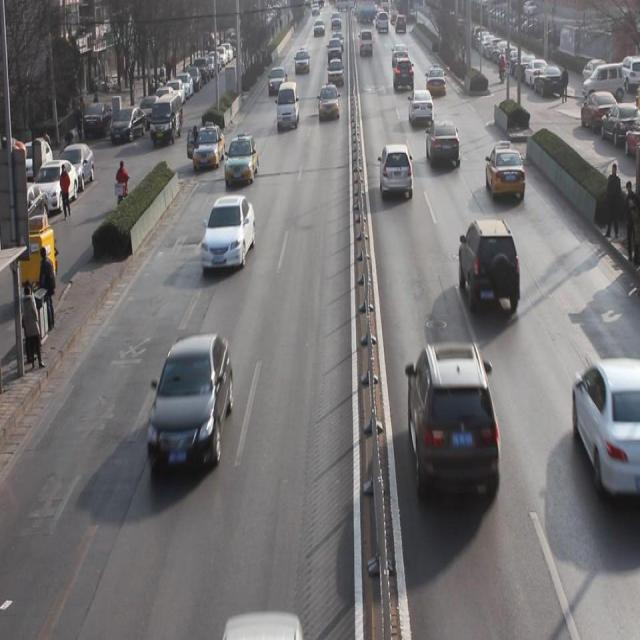car: (405, 346, 501, 506), (146, 337, 235, 476), (573, 359, 626, 504), (458, 218, 522, 320), (202, 196, 255, 272), (485, 144, 526, 206), (379, 144, 414, 203), (426, 119, 460, 175), (225, 136, 259, 188), (191, 124, 225, 172), (315, 85, 340, 124), (409, 92, 434, 130), (394, 58, 416, 94), (425, 66, 448, 99), (268, 66, 287, 95), (328, 59, 345, 88), (293, 49, 310, 75)
truck: (275, 82, 301, 134)
